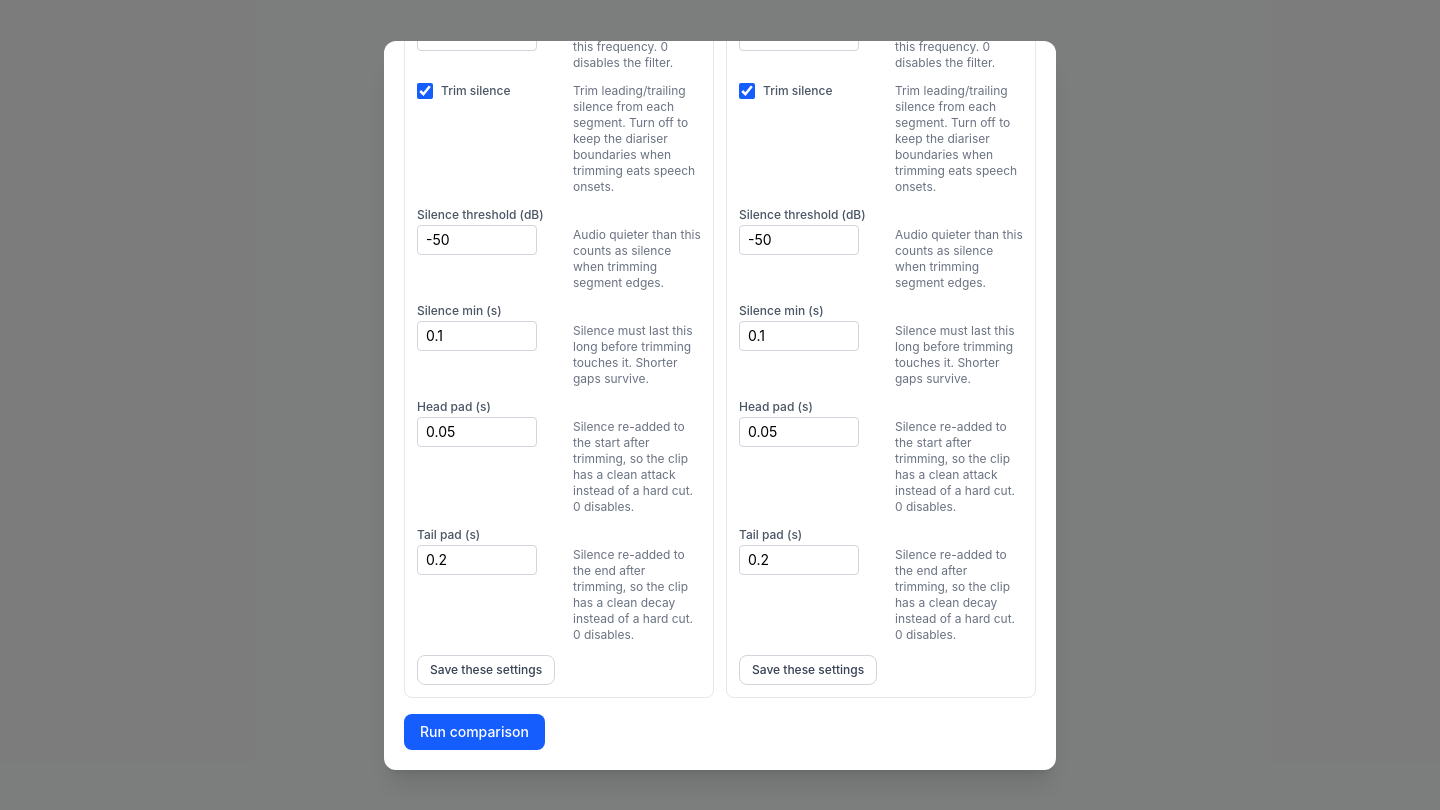
Test: CompareSettingsModal › surfaces a failed preview’s error in its pane
(page scrolled)
Step 1. Click the button "Run comparison" → (474, 732), box [404,714,545,750]
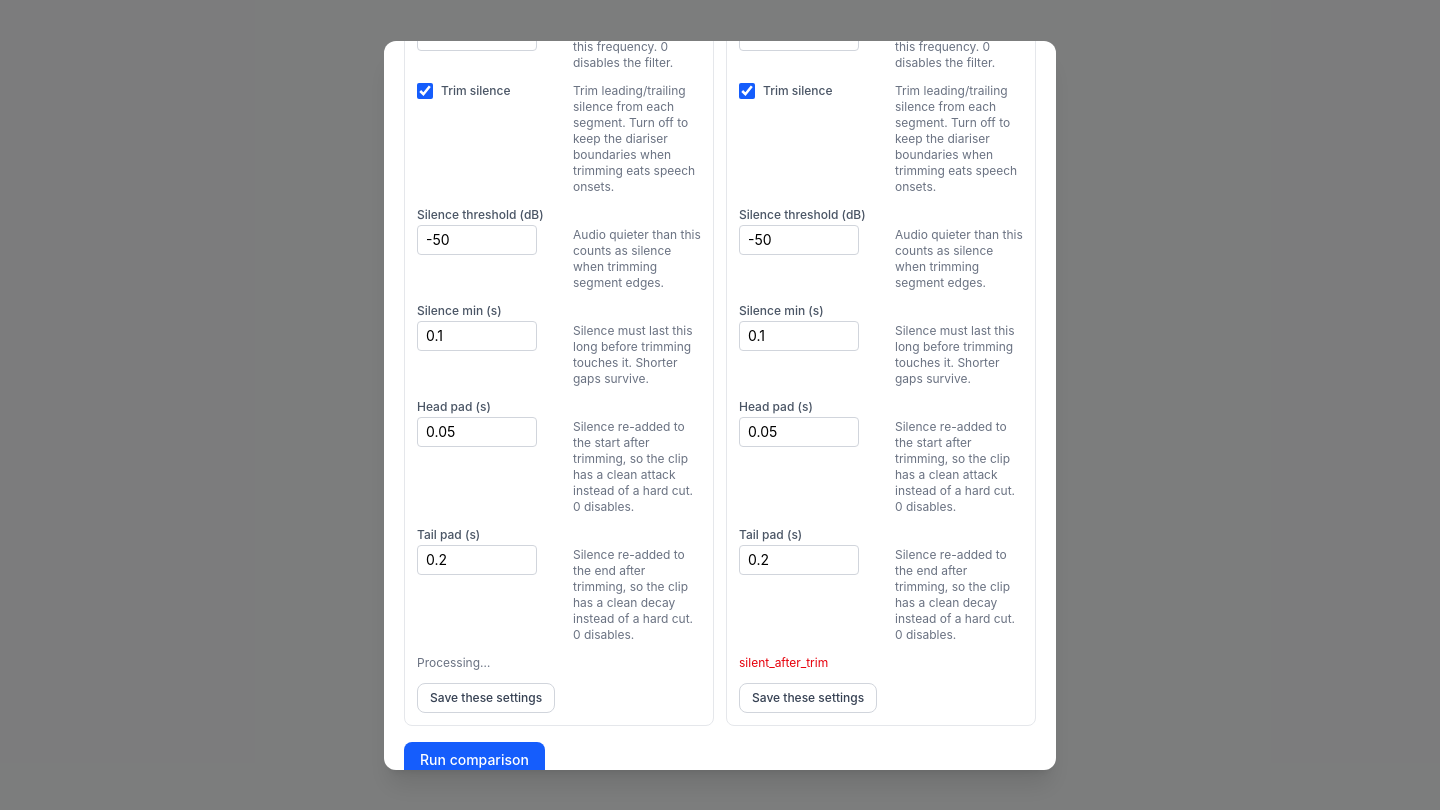
Now the text "silent_after_trim" is shown, box [739,654,828,670]
